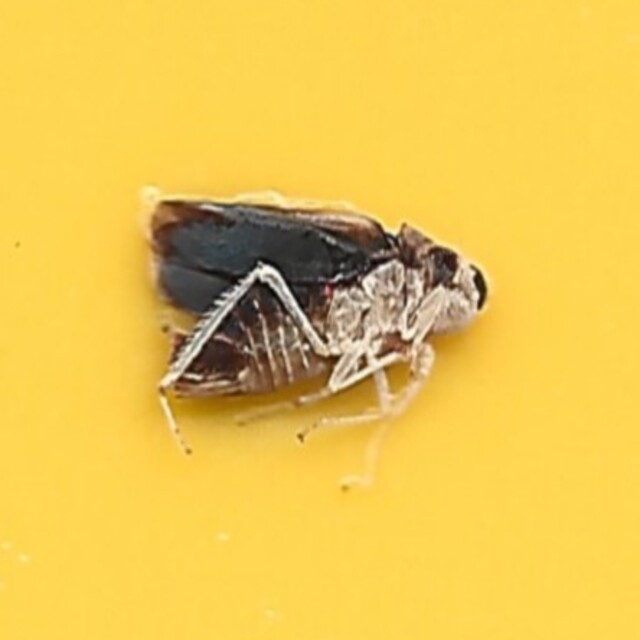Hemiptera: (144, 189, 496, 451)
